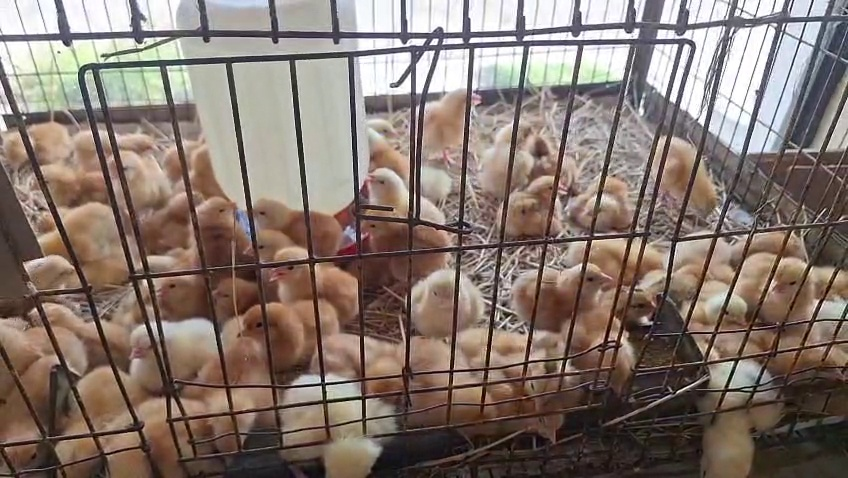Pollo: (278, 367, 413, 478), (178, 337, 276, 462), (683, 356, 782, 478), (40, 362, 142, 477), (517, 248, 624, 335), (402, 331, 486, 441), (232, 290, 337, 377), (20, 279, 135, 356), (275, 244, 374, 331), (489, 314, 588, 401), (575, 320, 674, 407), (106, 391, 205, 478), (310, 316, 409, 403), (123, 309, 221, 396), (646, 130, 735, 219), (408, 256, 496, 335), (361, 208, 450, 286), (499, 328, 583, 408), (751, 247, 828, 334), (418, 74, 494, 161), (99, 130, 178, 213), (475, 104, 550, 191), (0, 345, 51, 471), (29, 194, 123, 262), (480, 391, 578, 451), (371, 127, 461, 192), (497, 171, 576, 244), (183, 188, 257, 261), (572, 231, 675, 283), (692, 278, 772, 338), (668, 225, 751, 282), (776, 336, 848, 398), (567, 172, 641, 232), (29, 143, 103, 201), (146, 176, 206, 245), (608, 281, 681, 337), (365, 170, 454, 215), (137, 261, 208, 316), (251, 193, 353, 229), (0, 115, 68, 168), (215, 258, 270, 321), (245, 221, 300, 284), (67, 117, 152, 154), (536, 127, 591, 179), (161, 124, 211, 176), (186, 146, 236, 197), (370, 93, 420, 141), (126, 248, 189, 280), (27, 253, 77, 290)
